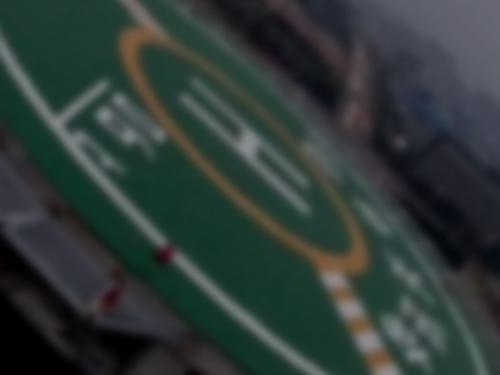Apron: (112, 22, 369, 276)
